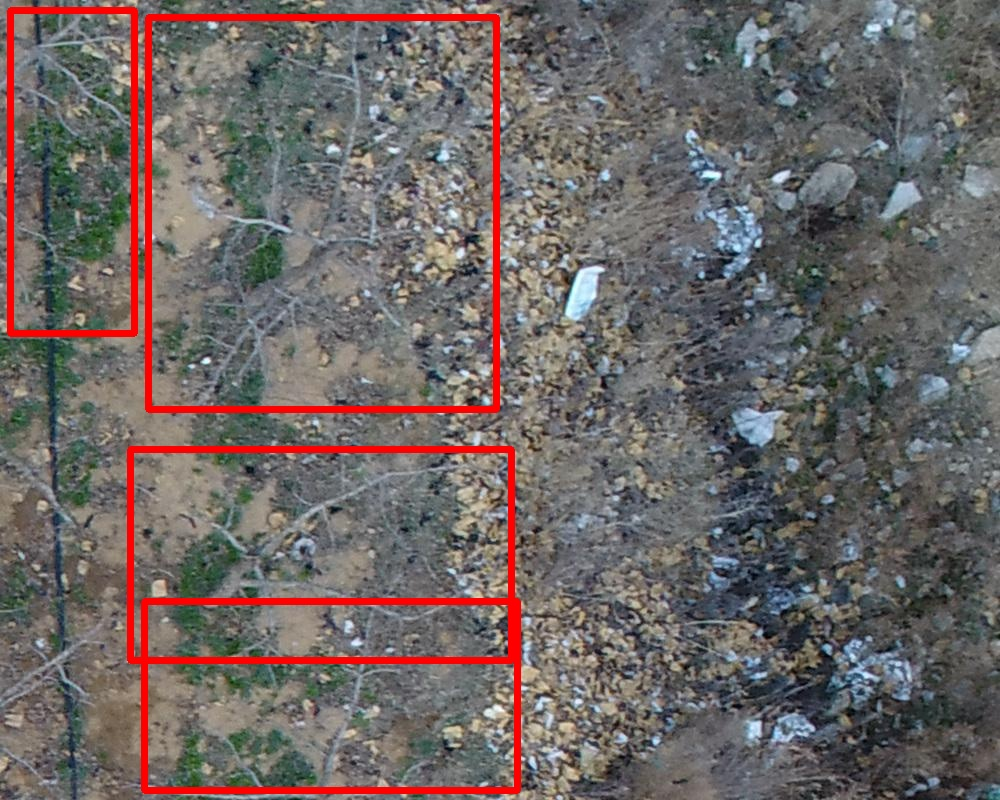apple: (148, 17, 496, 409), (130, 449, 511, 660), (144, 601, 517, 790), (10, 10, 134, 333)
